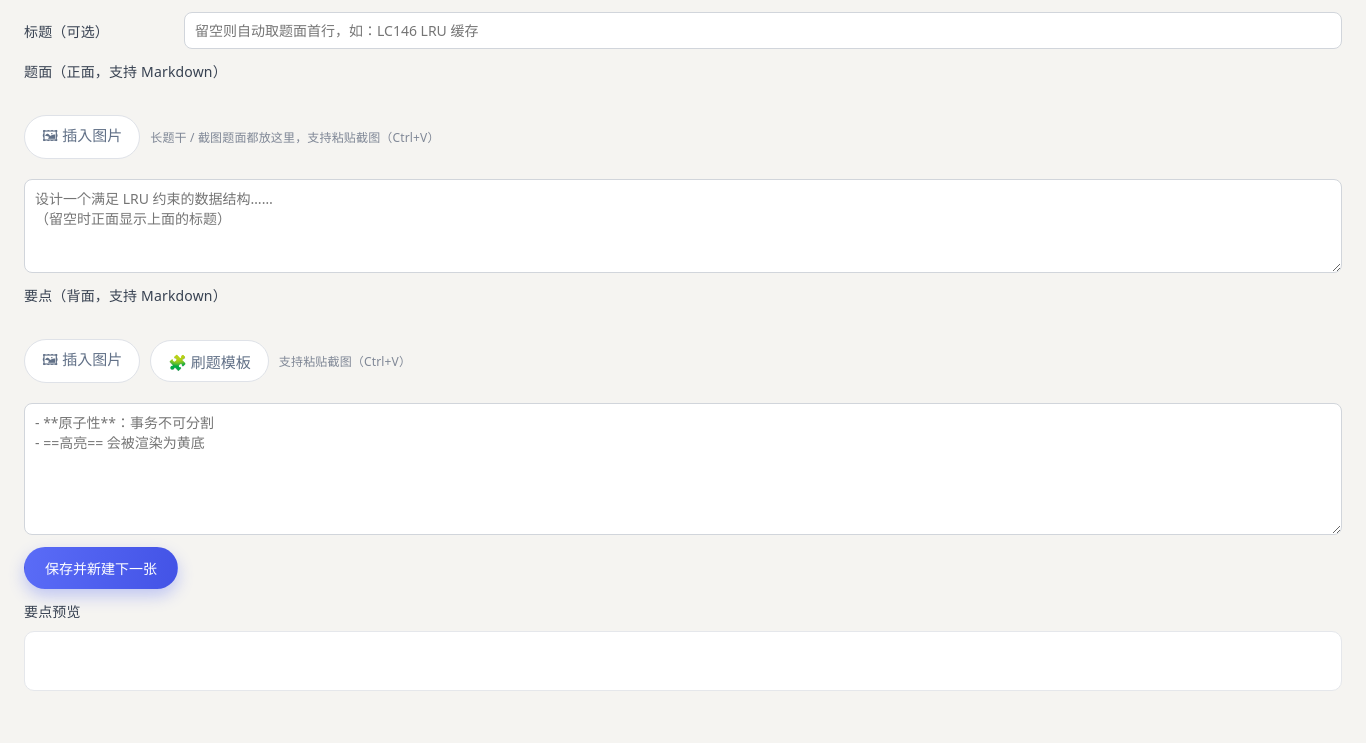
Test: 添加卡片页的题面入口（rule 13） › 题面与标题都空时拒绝保存并提示
(page scrolled)
Click the button "保存并新建下一张": x=101, y=568 [24,547,178,589]
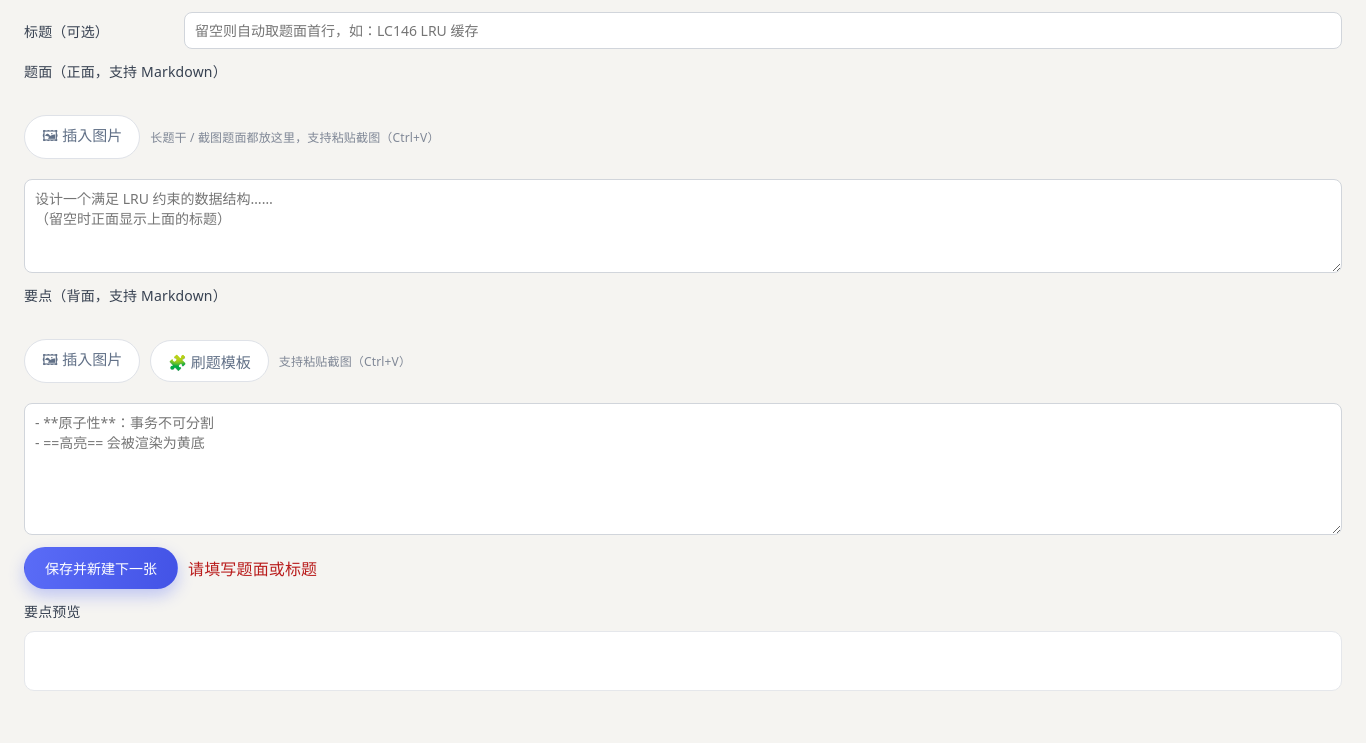
Now the text "请填写题面或标题" is shown, box [188,556,317,580]
